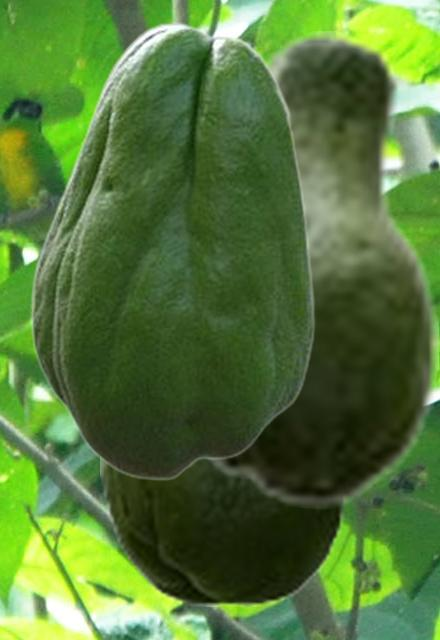sayote: (30, 22, 315, 480), (197, 31, 437, 509), (100, 460, 351, 605)
